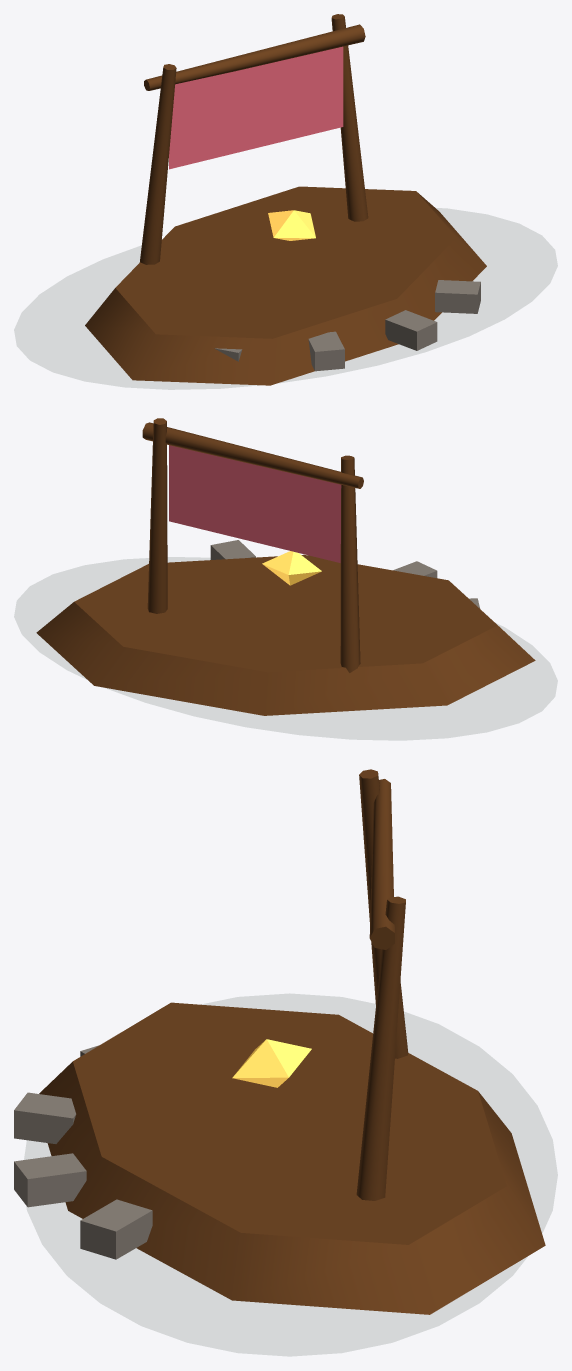
File: border_theater.glb
3 views of the same model, one above another, from view 1: azimuth 30°, elevation 25°; view 2: azimuth 150°, elevation 25°; view 3: azimuth 270°, elevation 25° (orthographic). The views are drawn at different scales.
Parts seen in each view (by area): view 1: theater_raised_stage, theater_curtain, soft_ground_shadow, theater_back_pole_left, theater_crossbar, theater_back_pole_right, theater_front_seat_1, theater_front_seat_0, theater_center_gift, theater_front_seat_2; view 2: theater_raised_stage, theater_curtain, soft_ground_shadow, theater_back_pole_left, theater_back_pole_right, theater_crossbar, theater_center_gift, theater_front_seat_0, theater_front_seat_2; view 3: theater_raised_stage, soft_ground_shadow, theater_back_pole_right, theater_crossbar, theater_front_seat_0, theater_front_seat_1, theater_front_seat_2, theater_back_pole_left, theater_center_gift.
Boxes of the visible parts, left/top/right/bottom form: theater_raised_stage: left=85, top=186, right=486, bottom=385; theater_curtain: left=169, top=46, right=343, bottom=169; soft_ground_shadow: left=14, top=208, right=556, bottom=389; theater_back_pole_left: left=139, top=64, right=176, bottom=264; theater_crossbar: left=144, top=24, right=365, bottom=90; theater_back_pole_right: left=331, top=14, right=368, bottom=221; theater_front_seat_1: left=385, top=310, right=437, bottom=350; theater_front_seat_0: left=435, top=280, right=480, bottom=313; theater_center_gift: left=268, top=210, right=315, bottom=240; theater_front_seat_2: left=308, top=331, right=344, bottom=371; theater_raised_stage: left=36, top=554, right=535, bottom=715; theater_curtain: left=169, top=445, right=341, bottom=562; soft_ground_shadow: left=14, top=557, right=556, bottom=739; theater_back_pole_left: left=340, top=455, right=360, bottom=672; theater_back_pole_right: left=147, top=418, right=167, bottom=613; theater_crossbar: left=142, top=422, right=363, bottom=488; theater_center_gift: left=262, top=551, right=321, bottom=585; theater_front_seat_0: left=210, top=540, right=255, bottom=559; theater_front_seat_2: left=393, top=561, right=437, bottom=577; theater_raised_stage: left=39, top=1002, right=545, bottom=1314; soft_ground_shadow: left=25, top=994, right=557, bottom=1355; theater_back_pole_right: left=356, top=896, right=405, bottom=1200; theater_crossbar: left=369, top=779, right=394, bottom=949; theater_front_seat_0: left=80, top=1199, right=152, bottom=1259; theater_front_seat_1: left=14, top=1153, right=86, bottom=1207; theater_front_seat_2: left=14, top=1092, right=76, bottom=1143; theater_back_pole_left: left=359, top=769, right=408, bottom=1058; theater_center_gift: left=232, top=1039, right=311, bottom=1087.
Size of the model in its own units: 3.87 by 1.69 by 2.45.
